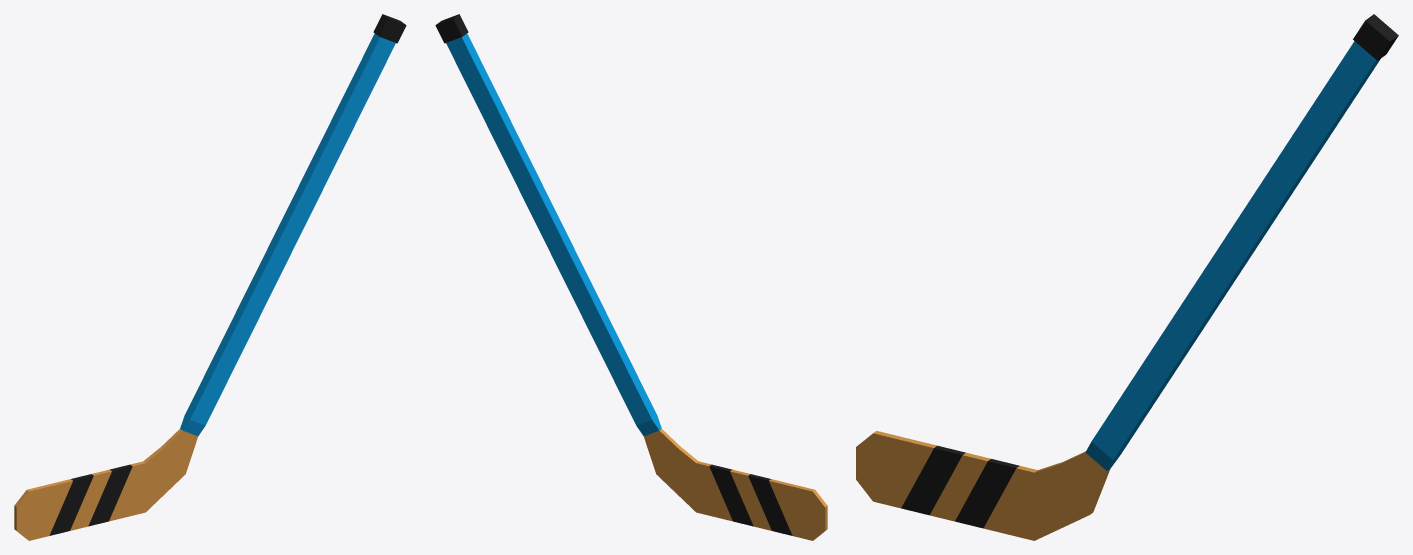
The model's file is Ice_Hockey_Stick_01.obj.
3 renders of one model, left to right at view 1: azimuth 30°, elevation 25°; view 2: azimuth 150°, elevation 25°; view 3: azimuth 330°, elevation 25°, orthographic. The views are drawn at different scales.
Parts seen in each view (by area): view 1: Hockey_stick_Cube.026; view 2: Hockey_stick_Cube.026; view 3: Hockey_stick_Cube.026.
Part boxes in pixels (<box>): Hockey_stick_Cube.026: <box>14,14,406,540</box>; Hockey_stick_Cube.026: <box>435,14,827,540</box>; Hockey_stick_Cube.026: <box>856,14,1398,540</box>.
Bounding box in the file's own units: 13.9 × 14.94 × 0.3914.
